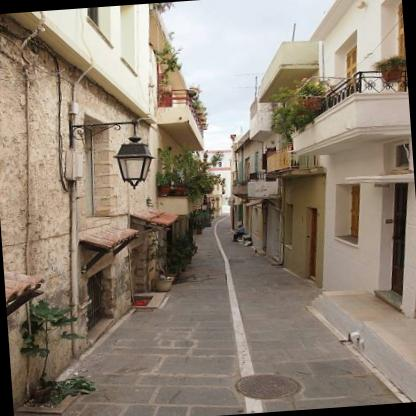manholes: (222, 353, 327, 413)
